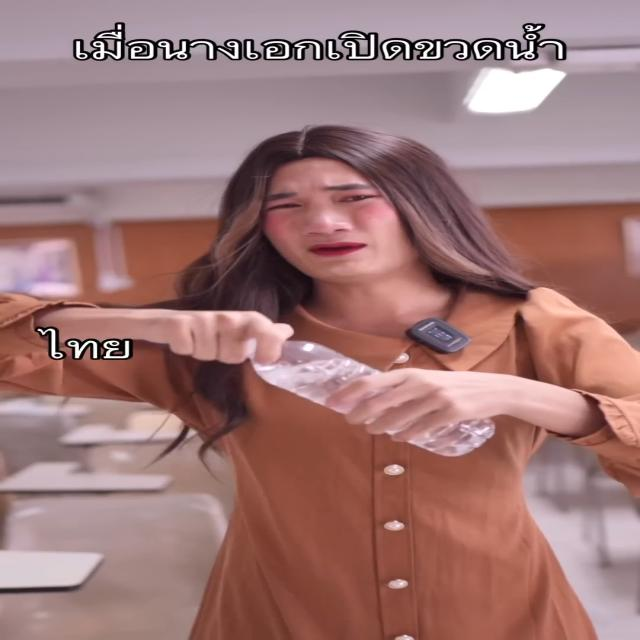bottle: (250, 335, 501, 457)
